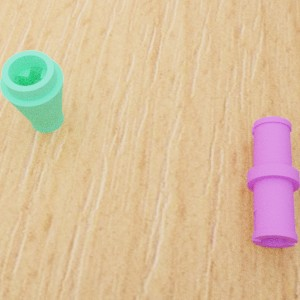lego: (247, 116, 299, 248), (0, 50, 63, 133)
